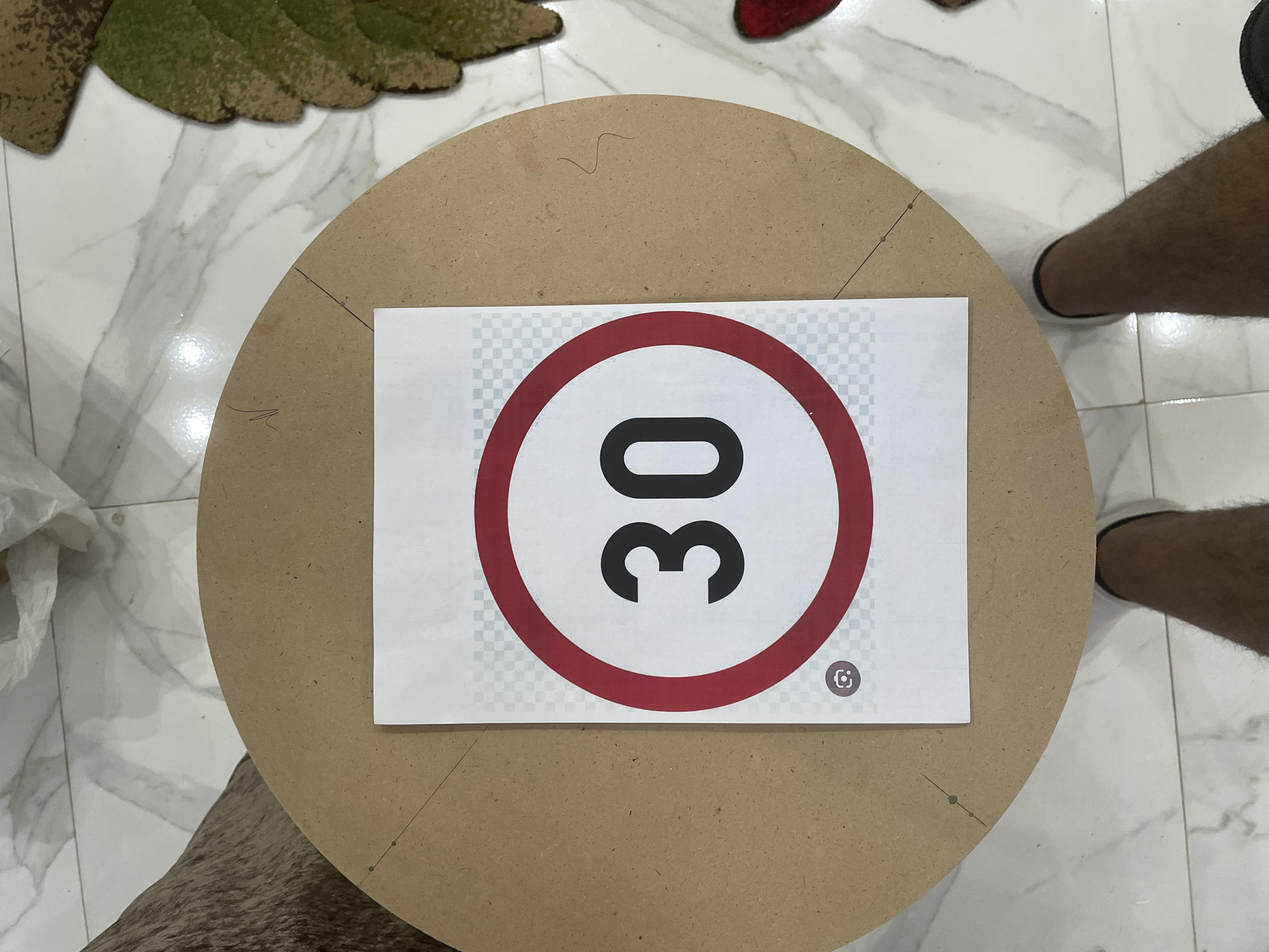30-speed: (311, 350, 865, 666)
